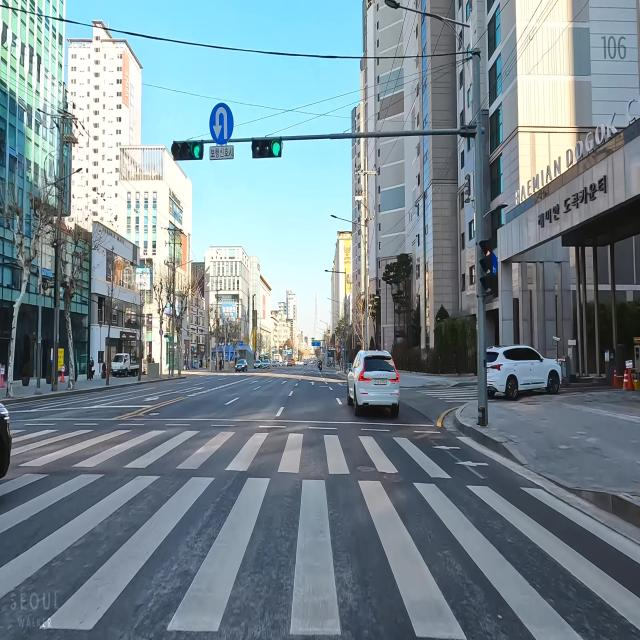Green Light: (191, 142, 201, 160), (270, 140, 280, 158)
